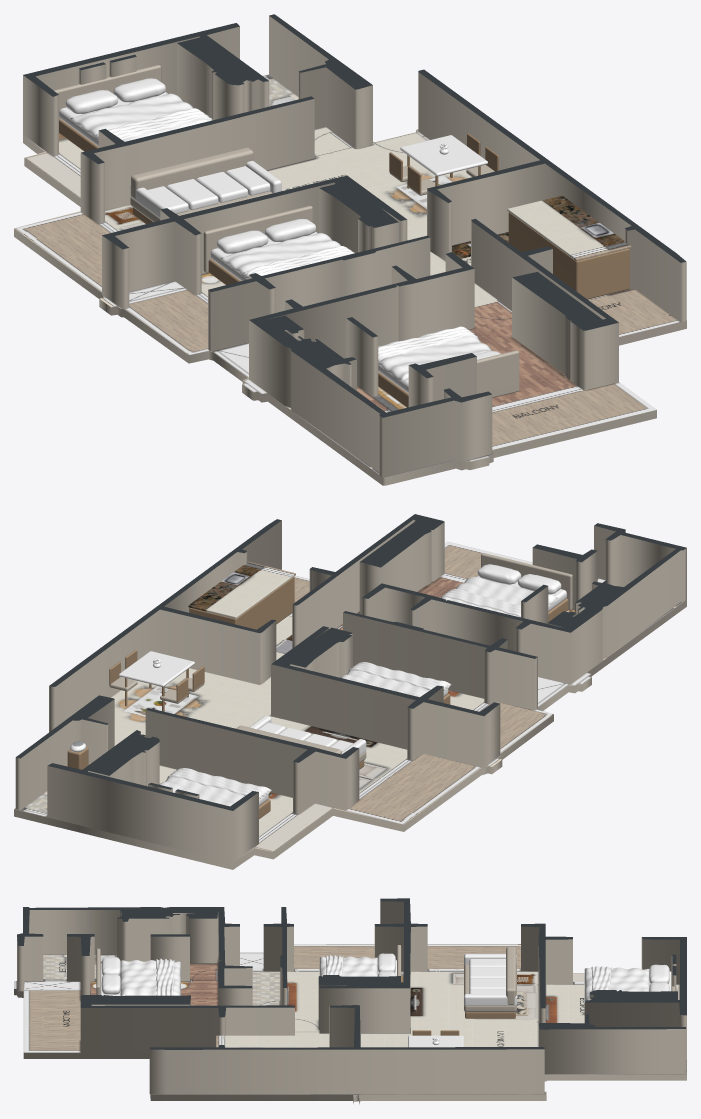
3 renders of one model, top to bottom at view 1: azimuth 30°, elevation 25°; view 2: azimuth 150°, elevation 25°; view 3: azimuth 270°, elevation 25°, orthographic. The views are drawn at different scales.
Parts seen in each view (by area): view 1: Partition walls, Apartment floor, Stone worktop, Kitchen cabinets, Draped bed linen, Sofa back, Draped bed linen.002, Marble dining top, Draped bed linen.004, Upholstered headboard.002, Upholstered headboard.001, Upholstered headboard (+10 smaller); view 2: Partition walls, Apartment floor, Stone worktop, Kitchen cabinets, Marble dining top, Draped bed linen.004, Draped bed linen, Upholstered headboard.002, Draped bed linen.001, Draped bed linen.002, Draped bed linen.003, Draped bed linen.005 (+2 smaller); view 3: Partition walls, Apartment floor, Draped bed linen.004, Stone worktop, Draped bed linen, Draped bed linen.002, Marble dining top, Draped bed linen.005, Upholstered sofa frame, Sofa back, Padded armrest.001, Draped bed linen.001 (+9 smaller).
Boxes of the visible parts, box(x1,y1,x2,y2) form: Partition walls: box(23, 14, 686, 477); Apartment floor: box(14, 74, 686, 485); Stone worktop: box(507, 195, 631, 261); Kitchen cabinets: box(508, 212, 629, 299); Draped bed linen: box(70, 93, 211, 141); Sofa back: box(131, 147, 253, 198); Draped bed linen.002: box(220, 233, 341, 278); Marble dining top: box(400, 135, 487, 176); Draped bed linen.004: box(378, 330, 491, 381); Upholstered headboard.002: box(477, 350, 519, 397); Upholstered headboard.001: box(203, 205, 312, 272); Upholstered headboard: box(54, 65, 161, 117); Partition walls: box(15, 514, 686, 862); Apartment floor: box(14, 541, 686, 869); Stone worktop: box(188, 561, 295, 618); Kitchen cabinets: box(189, 576, 294, 629); Marble dining top: box(119, 651, 194, 686); Draped bed linen.004: box(442, 576, 557, 616); Draped bed linen: box(159, 769, 271, 806); Upholstered headboard.002: box(481, 553, 572, 610); Draped bed linen.001: box(167, 768, 268, 798); Draped bed linen.002: box(340, 663, 451, 697); Draped bed linen.003: box(348, 662, 448, 690); Draped bed linen.005: box(440, 589, 520, 617); Partition walls: box(17, 898, 686, 1094); Apartment floor: box(14, 944, 686, 1104); Draped bed linen.004: box(120, 960, 180, 995); Stone worktop: box(216, 1035, 319, 1047); Draped bed linen: box(584, 967, 649, 1002); Draped bed linen.002: box(319, 956, 377, 976); Marble dining top: box(408, 1035, 463, 1047); Draped bed linen.005: box(156, 958, 174, 995); Upholstered sofa frame: box(464, 964, 516, 1012); Sofa back: box(506, 946, 516, 1004); Padded armrest.001: box(464, 994, 516, 1005); Draped bed linen.001: box(591, 966, 611, 990).
Size of the model in its own units: 8.59 by 1.3 by 15.53.
Materials: 10 (1 with a texture image).
